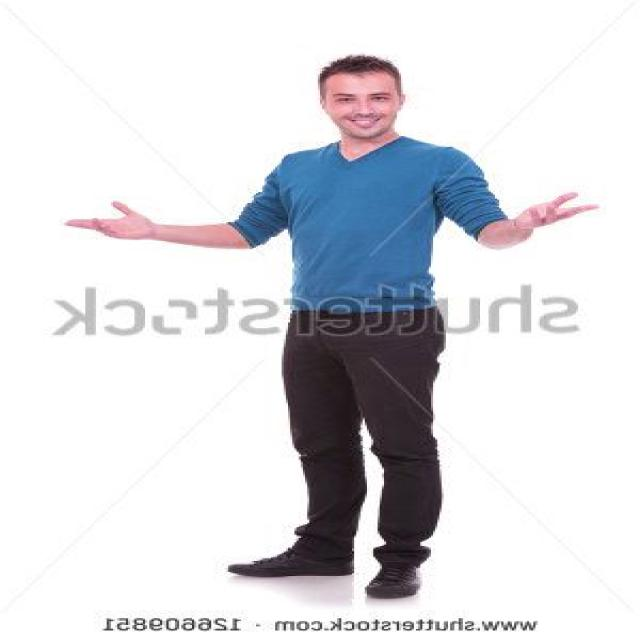shoulder: (249, 140, 490, 204)
